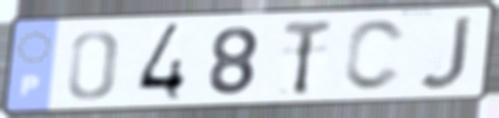0: (64, 27, 122, 102)
4: (133, 21, 190, 104)
8: (208, 25, 260, 96)
C: (340, 16, 409, 95)
J: (415, 13, 475, 93)
T: (280, 17, 335, 99)
